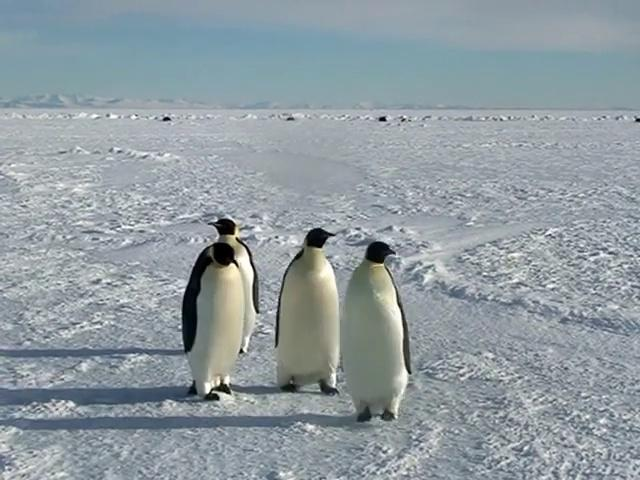animal: (342, 242, 412, 422)
